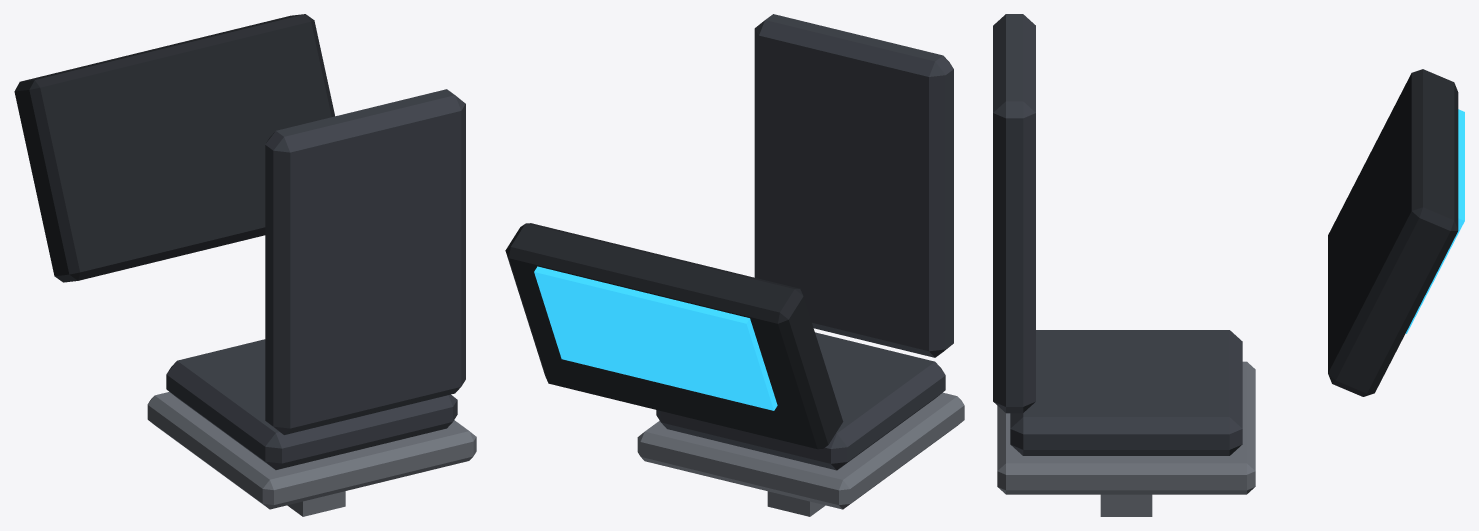
The model's file is seat.glb.
3 views of the same model, side by side, from view 1: azimuth 30°, elevation 25°; view 2: azimuth 150°, elevation 25°; view 3: azimuth 270°, elevation 25° (orthographic). The views are drawn at different scales.
Parts seen in each view (by area): view 1: seat; view 2: seat; view 3: seat.
Boxes of the visible parts, <box> form: seat: <box>14,14,476,516</box>; seat: <box>505,14,964,516</box>; seat: <box>993,14,1464,516</box>.
Bounding box in the file's own units: 0.8 × 1.15 × 1.1.
